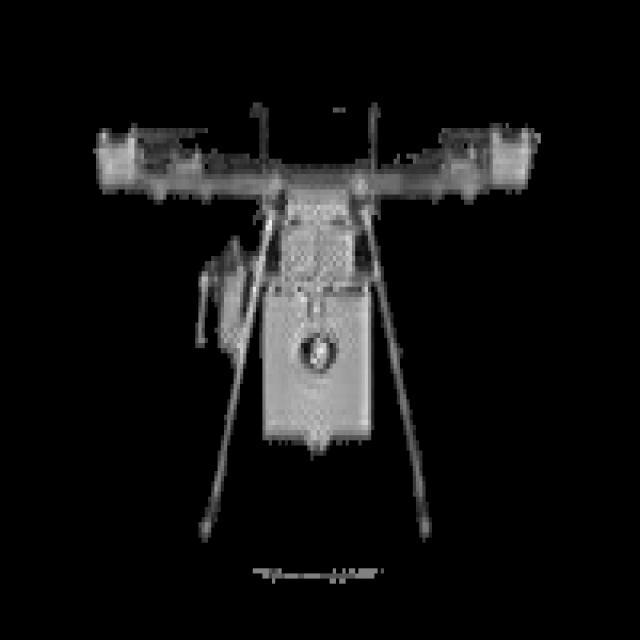drone: (61, 65, 576, 580)
